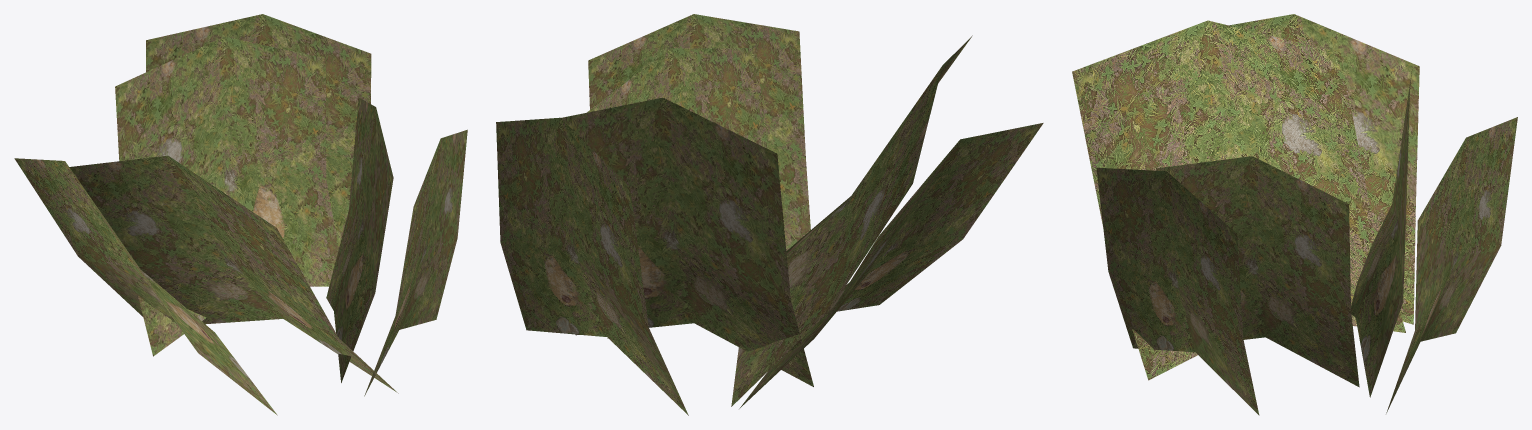
The model's file is SM_GrassShort.fbx.
3 views of the same model, side by side, from view 1: azimuth 30°, elevation 25°; view 2: azimuth 150°, elevation 25°; view 3: azimuth 270°, elevation 25° (orthographic). The views are drawn at different scales.
Parts seen in each view (by area): view 1: SM_GrassShort_LOD0; view 2: SM_GrassShort_LOD0; view 3: SM_GrassShort_LOD0.
Part boxes in pixels (x1=…): SM_GrassShort_LOD0: x1=14, y1=14, x2=467, y2=415; SM_GrassShort_LOD0: x1=496, y1=14, x2=1043, y2=415; SM_GrassShort_LOD0: x1=1072, y1=14, x2=1517, y2=415.
Bounding box in the file's own units: 62.03 × 62.4 × 41.97.
